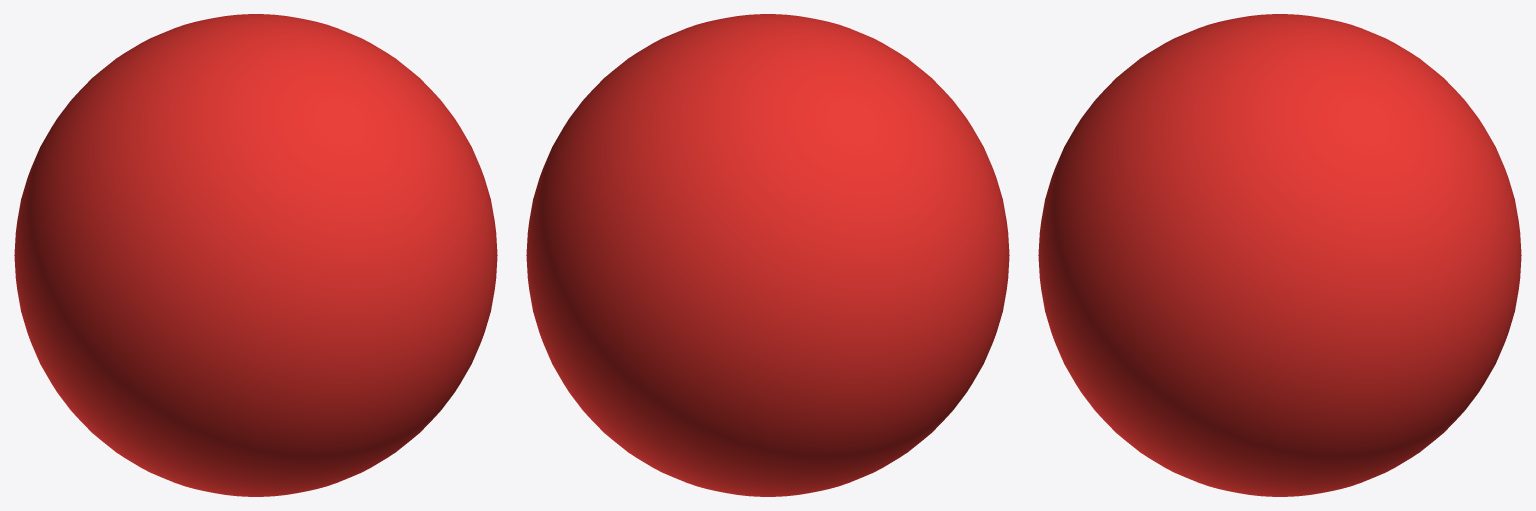
Rendered from LotusOrb2.glb.
3 views of the same model, side by side, from view 1: azimuth 30°, elevation 25°; view 2: azimuth 150°, elevation 25°; view 3: azimuth 270°, elevation 25° (orthographic).
Parts seen in each view (by area): view 1: LotusOrb; view 2: LotusOrb; view 3: LotusOrb.
Boxes of the visible parts, x1=… form: LotusOrb: x1=14, y1=14, x2=497, y2=496; LotusOrb: x1=526, y1=14, x2=1009, y2=496; LotusOrb: x1=1038, y1=14, x2=1521, y2=496.
Bounding box in the file's own units: 20 × 20 × 20.
